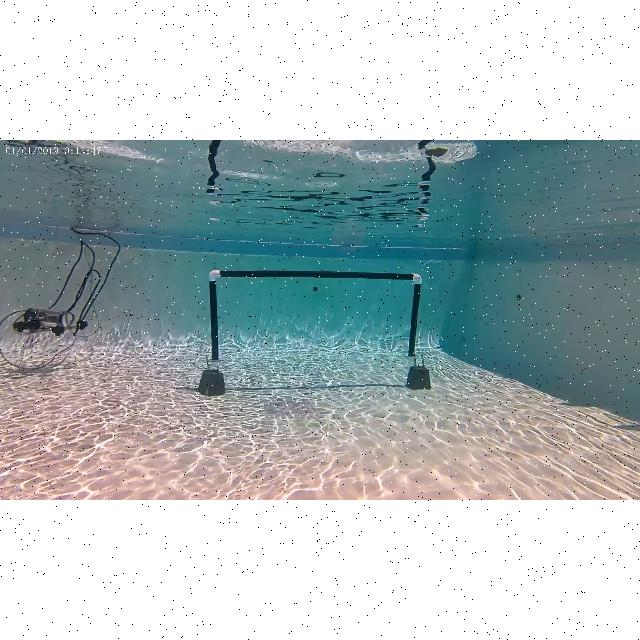prequal gate: (208, 269, 422, 369)
prequal gate leg l: (208, 270, 224, 370)
prequal gate leg r: (403, 274, 423, 362)
